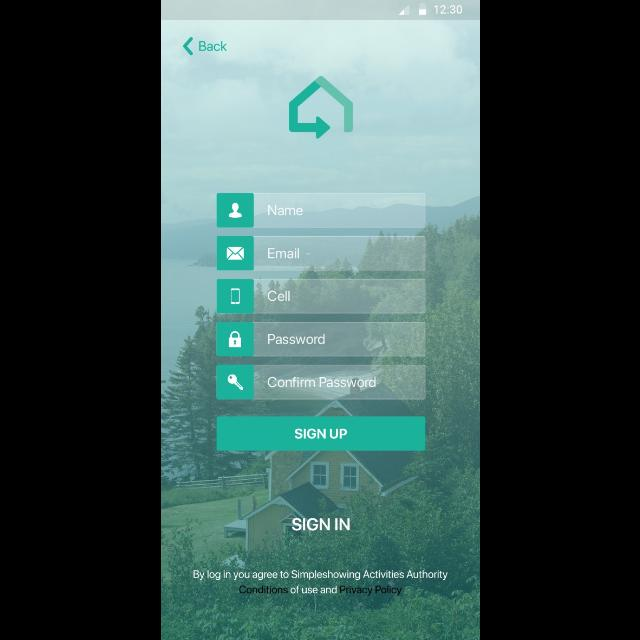backgroundimage: (160, 21, 480, 640)
icon: (226, 248, 244, 260), (228, 204, 242, 218), (228, 332, 240, 348), (182, 38, 192, 56)
image: (288, 76, 352, 140), (228, 375, 242, 391), (230, 288, 240, 304)
input: (216, 364, 424, 400), (215, 322, 425, 356), (216, 279, 424, 313), (216, 237, 424, 271), (216, 194, 424, 228)
text: (192, 570, 448, 596), (267, 377, 375, 388), (292, 517, 350, 531), (268, 334, 324, 344), (268, 204, 302, 216), (268, 249, 298, 259), (199, 41, 227, 51), (267, 291, 289, 301)
textbutton: (217, 417, 426, 451)
uppertaskbar: (160, 1, 480, 21)
